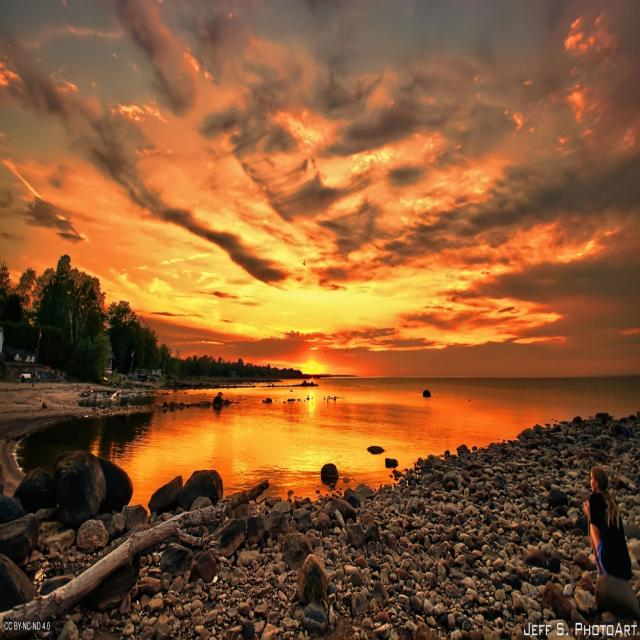no_fire: (126, 214, 550, 486)
